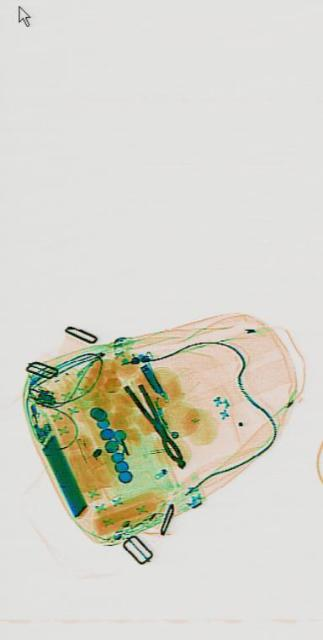Pliers: (122, 366, 185, 478)
